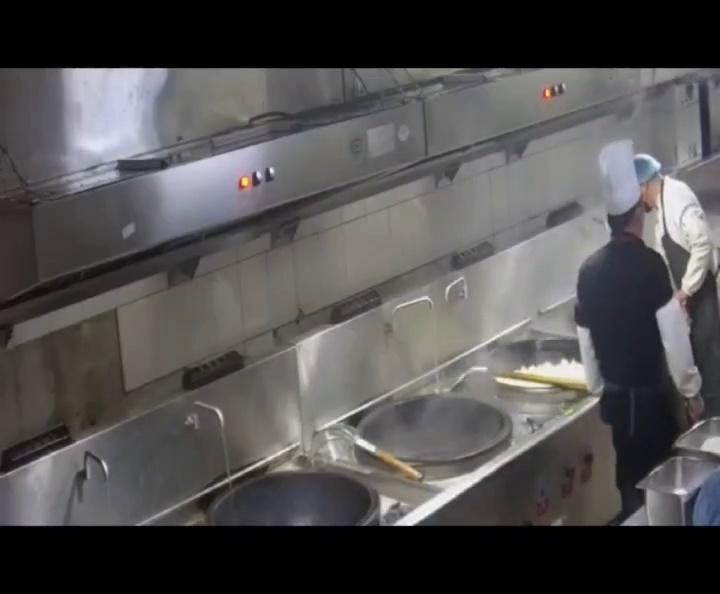gloves: (633, 153, 662, 186)
mask: (639, 179, 658, 213)
